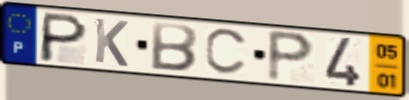4: (323, 35, 363, 89)
B: (148, 20, 200, 74)
C: (203, 27, 251, 78)
K: (93, 16, 131, 69)
P: (265, 28, 318, 85), (36, 11, 90, 65)
